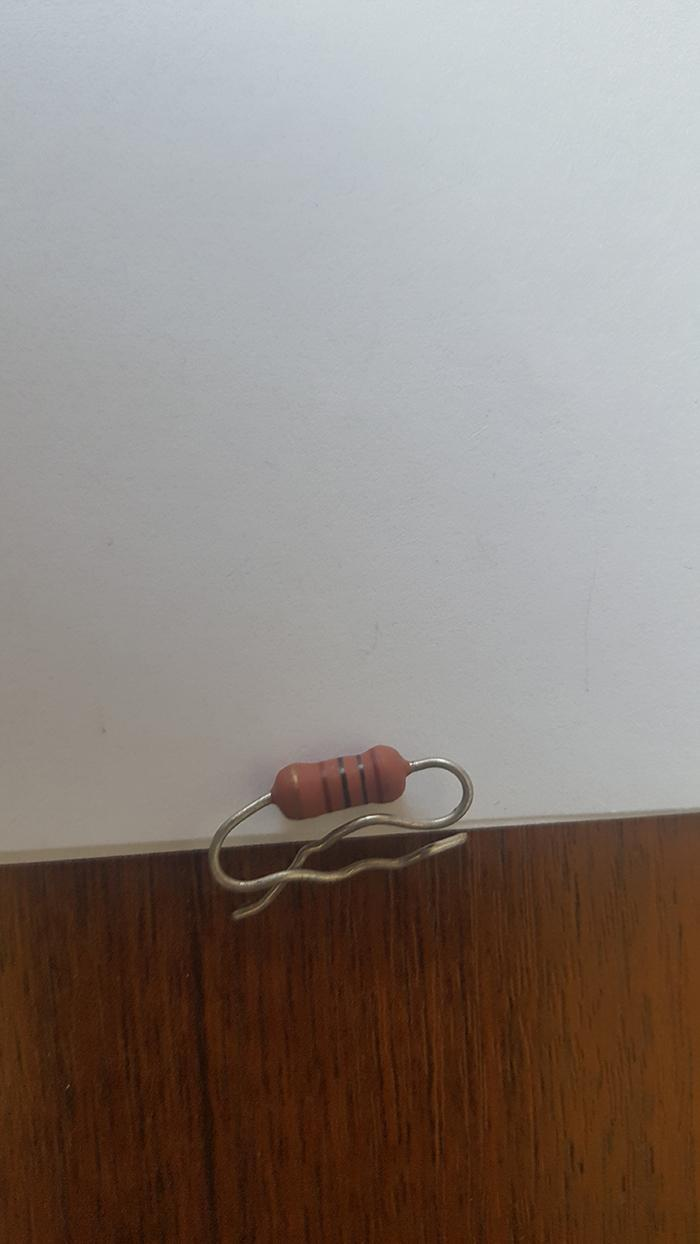resistor: (271, 744, 411, 821)
